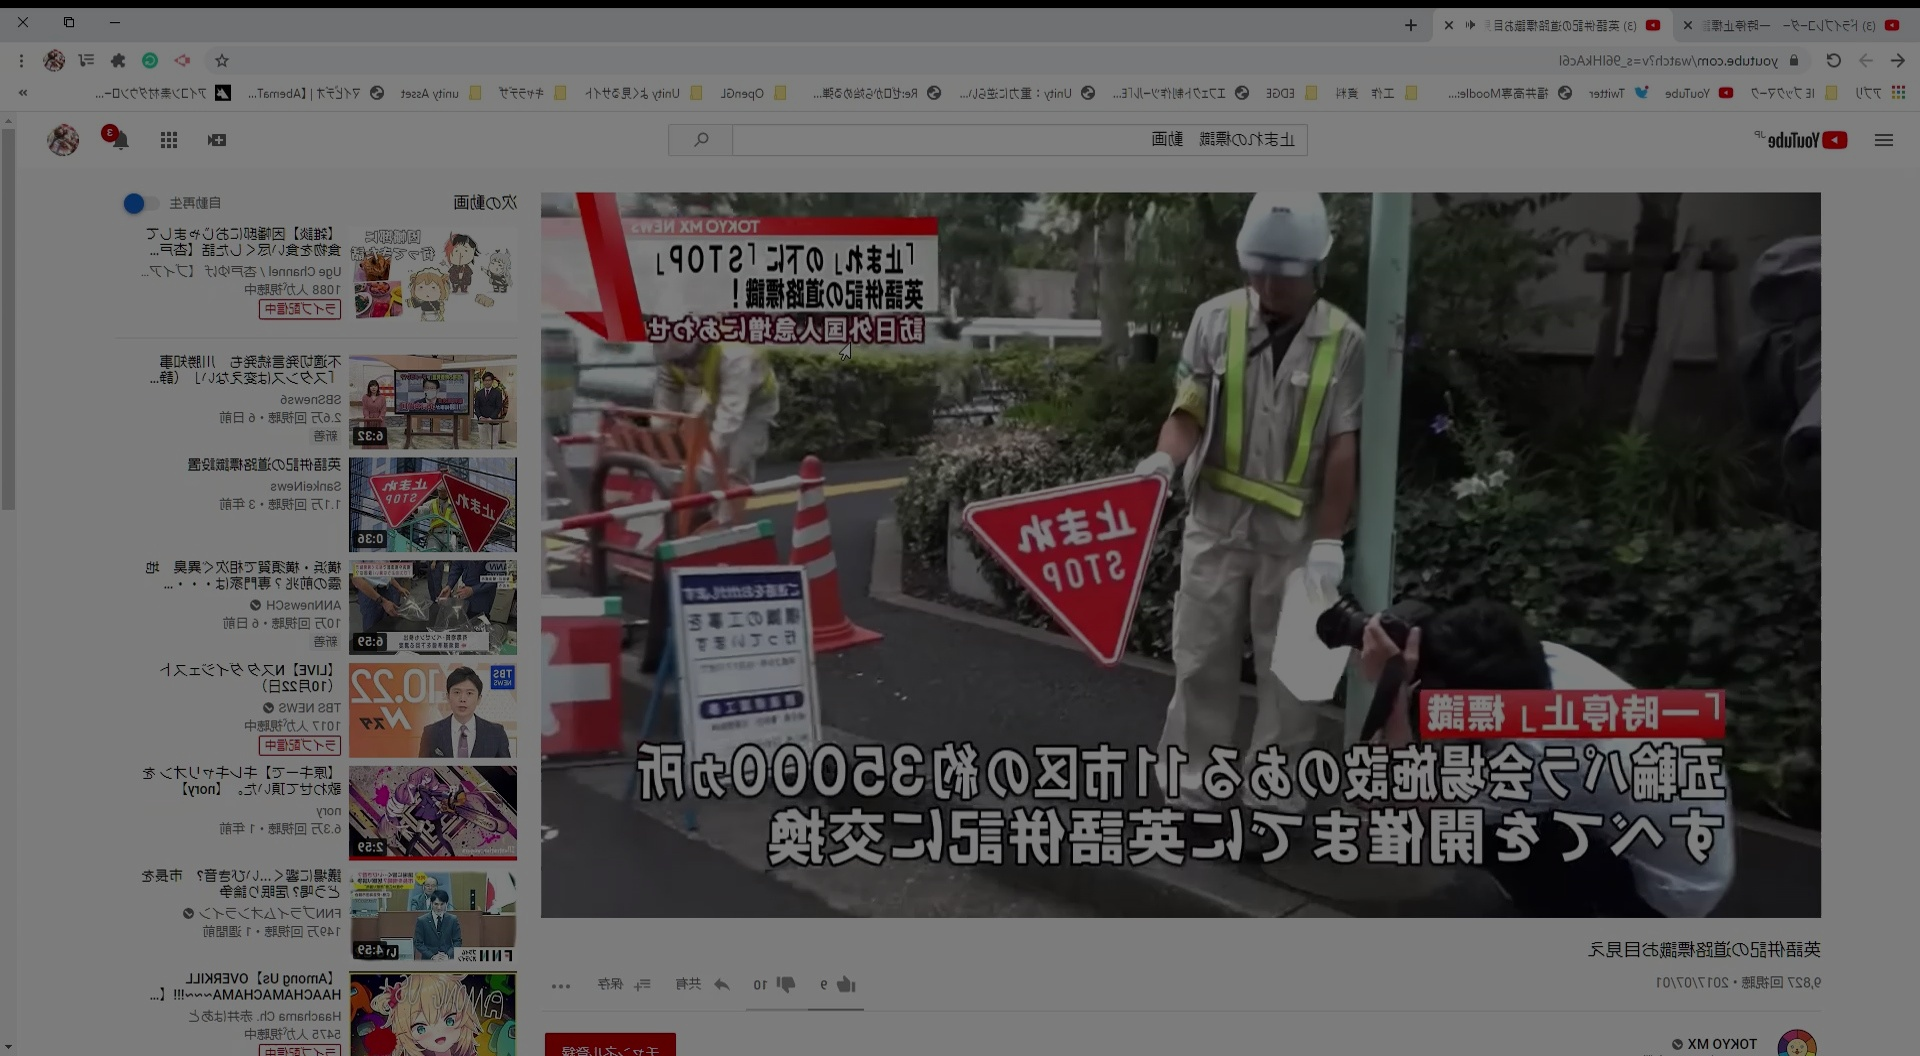Regulatory_sign_triangle: (944, 467, 1179, 665)
